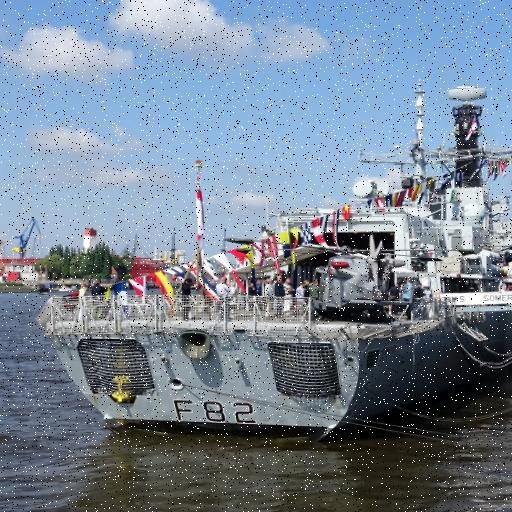Fragata: (42, 78, 512, 435)
